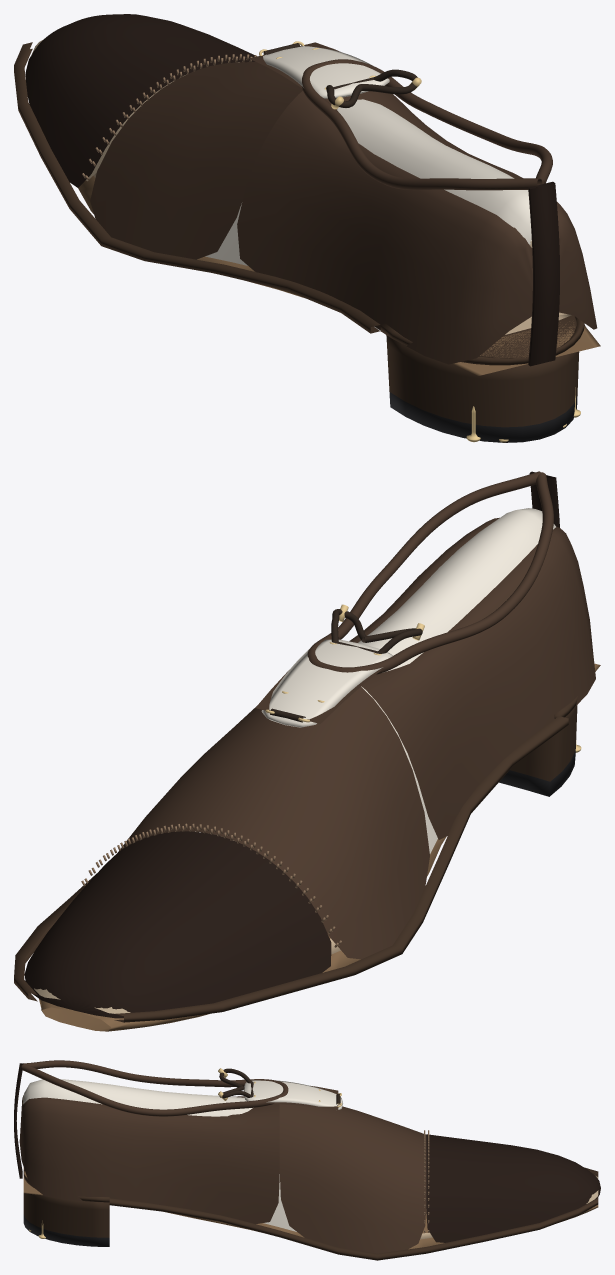
Rendered from shoe001_aurelius.glb.
3 views of the same model, one above another, from view 1: azimuth 30°, elevation 25°; view 2: azimuth 150°, elevation 25°; view 3: azimuth 270°, elevation 25° (orthographic). The views are drawn at different scales.
Parts seen in each view (by area): view 1: Piece_12_Quarters, Piece_15_Vamp, Piece_18_Toe_Cap, Piece_02_Heel_Lifts, Piece_11_Lining, Piece_07_Goodyear_Welt, Piece_14_Rolled_Collar_Binding, Piece_13_Heel_Back_Strip, Piece_17_Padded_Tongue, Piece_04_Outsole, Piece_19_Waxed_Laces, Piece_03_Leather_Rand (+1 smaller); view 2: Piece_15_Vamp, Piece_18_Toe_Cap, Piece_12_Quarters, Piece_11_Lining, Piece_07_Goodyear_Welt, Piece_14_Rolled_Collar_Binding, Piece_17_Padded_Tongue, Piece_02_Heel_Lifts, Piece_04_Outsole, Piece_19_Waxed_Laces, Piece_20_Micro_Stitching, Piece_16_Facings; view 3: Piece_12_Quarters, Piece_15_Vamp, Piece_18_Toe_Cap, Piece_11_Lining, Piece_02_Heel_Lifts, Piece_14_Rolled_Collar_Binding, Piece_07_Goodyear_Welt, Piece_17_Padded_Tongue, Piece_04_Outsole, Piece_19_Waxed_Laces, Piece_13_Heel_Back_Strip, Piece_16_Facings (+1 smaller).
Boxes of the visible parts, box(x1,y1,x2,y2) form: Piece_12_Quarters: box(237, 91, 597, 364); Piece_15_Vamp: box(90, 62, 302, 259); Piece_18_Toe_Cap: box(25, 14, 256, 187); Piece_02_Heel_Lifts: box(386, 315, 579, 442); Piece_11_Lining: box(205, 99, 531, 265); Piece_07_Goodyear_Welt: box(14, 42, 380, 333); Piece_14_Rolled_Collar_Binding: box(302, 59, 552, 190); Piece_13_Heel_Back_Strip: box(528, 181, 559, 366); Piece_17_Padded_Tongue: box(263, 46, 389, 98); Piece_04_Outsole: box(78, 175, 600, 375); Piece_19_Waxed_Laces: box(263, 43, 421, 109); Piece_03_Leather_Rand: box(380, 316, 584, 365); Piece_15_Vamp: box(118, 687, 429, 959); Piece_18_Toe_Cap: box(24, 831, 331, 1018); Piece_12_Quarters: box(349, 517, 595, 839); Piece_11_Lining: box(358, 508, 555, 853); Piece_07_Goodyear_Welt: box(14, 716, 568, 1022); Piece_14_Rolled_Collar_Binding: box(307, 471, 553, 674); Piece_17_Padded_Tongue: box(261, 639, 392, 727); Piece_02_Heel_Lifts: box(499, 705, 577, 796); Piece_04_Outsole: box(39, 663, 600, 1031); Piece_19_Waxed_Laces: box(270, 604, 424, 722); Piece_20_Micro_Stitching: box(81, 823, 341, 947); Piece_16_Facings: box(255, 642, 381, 723); Piece_12_Quarters: box(19, 1095, 279, 1223); Piece_15_Vamp: box(279, 1104, 426, 1253); Piece_18_Toe_Cap: box(426, 1134, 600, 1242); Piece_11_Lining: box(23, 1079, 296, 1231); Piece_02_Heel_Lifts: box(23, 1193, 109, 1246); Piece_14_Rolled_Collar_Binding: box(21, 1060, 288, 1116); Piece_07_Goodyear_Welt: box(109, 1167, 598, 1260); Piece_17_Padded_Tongue: box(243, 1080, 342, 1109); Piece_04_Outsole: box(23, 1167, 598, 1249); Piece_19_Waxed_Laces: box(218, 1068, 340, 1104); Piece_13_Heel_Back_Strip: box(14, 1063, 22, 1178); Piece_16_Facings: box(253, 1081, 341, 1110).
Bounding box in the file's own units: 0.1122 × 0.0902 × 0.3002.
